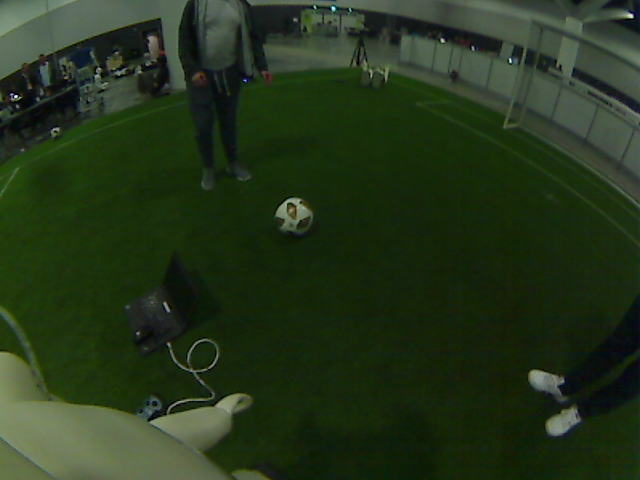ball: (273, 198, 313, 238), (47, 126, 65, 141)
goalpost: (486, 69, 526, 129)
robot: (363, 54, 383, 84)
